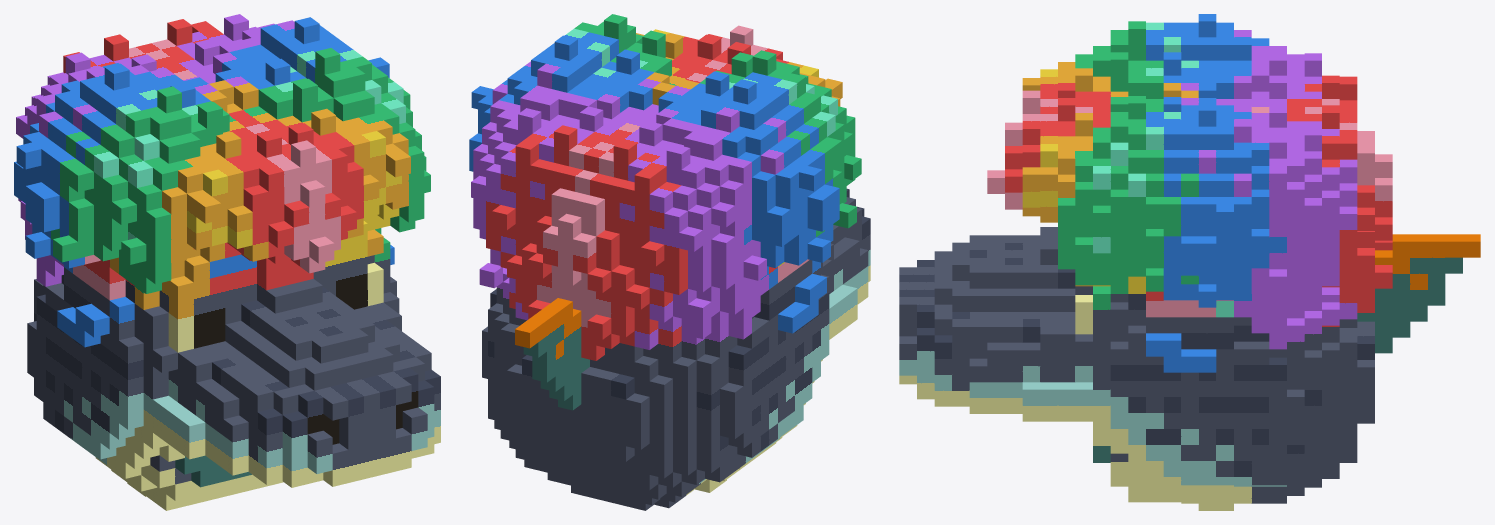
Rendered from clown wig_skydiving goggles.gltf.
The picture shows the model from 3 angles, left to right: view 1: azimuth 30°, elevation 25°; view 2: azimuth 150°, elevation 25°; view 3: azimuth 270°, elevation 25°; orthographic projection. The views are drawn at different scales.
Parts seen in each view (by area): view 1: C09_H_ClownW_SkydivingGG-Mesh; view 2: C09_H_ClownW_SkydivingGG-Mesh; view 3: C09_H_ClownW_SkydivingGG-Mesh.
Part boxes in pixels (x1,y1,x2,y2): C09_H_ClownW_SkydivingGG-Mesh: (14,14,440,510); C09_H_ClownW_SkydivingGG-Mesh: (469,14,870,510); C09_H_ClownW_SkydivingGG-Mesh: (899,14,1480,510).
Bounding box in the file's own units: 23 × 26 × 33.
1 material, 1 textured.
